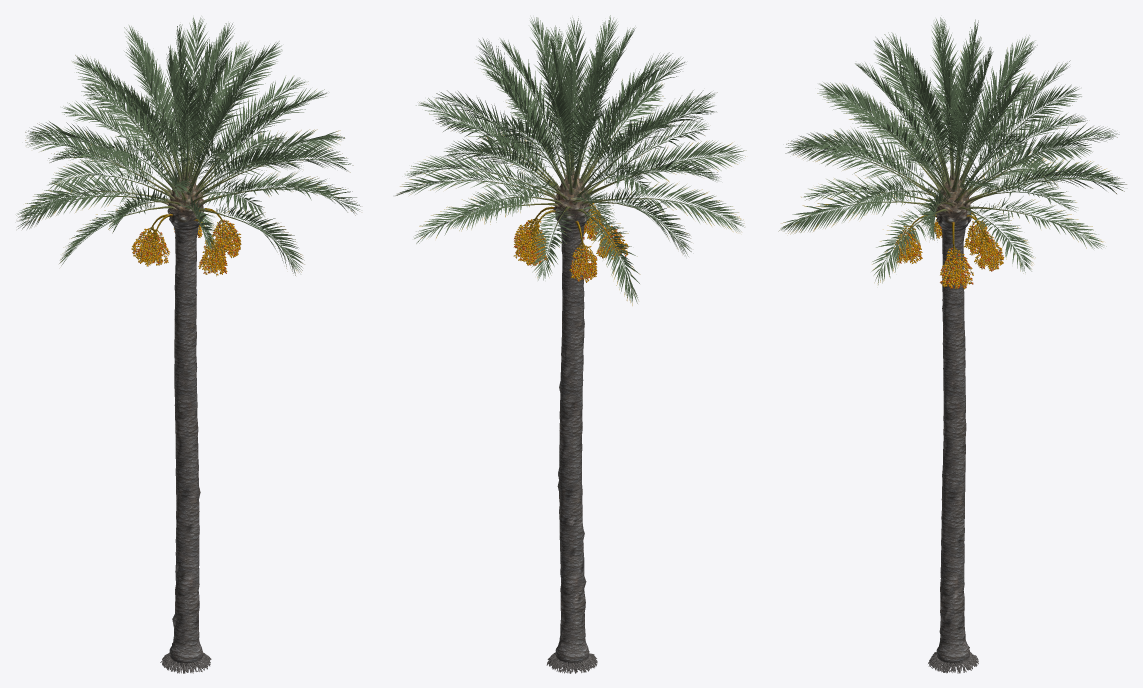
Rendered from Phoenix dactylifera HD_Urban mat 75_LOD1.fbx.
3 renders of one model, left to right at view 1: azimuth 30°, elevation 25°; view 2: azimuth 150°, elevation 25°; view 3: azimuth 270°, elevation 25°, orthographic.
Parts seen in each view (by area): view 1: Phoenix_dactylifera_HD; view 2: Phoenix_dactylifera_HD; view 3: Phoenix_dactylifera_HD.
Boxes of the visible parts, bbox=[...] form: Phoenix_dactylifera_HD: bbox=[16, 17, 360, 673]; Phoenix_dactylifera_HD: bbox=[395, 15, 746, 673]; Phoenix_dactylifera_HD: bbox=[778, 17, 1126, 673].
Size of the model in its own units: 6.99 by 13.93 by 7.08.
Materials: 10 (10 with a texture image).
